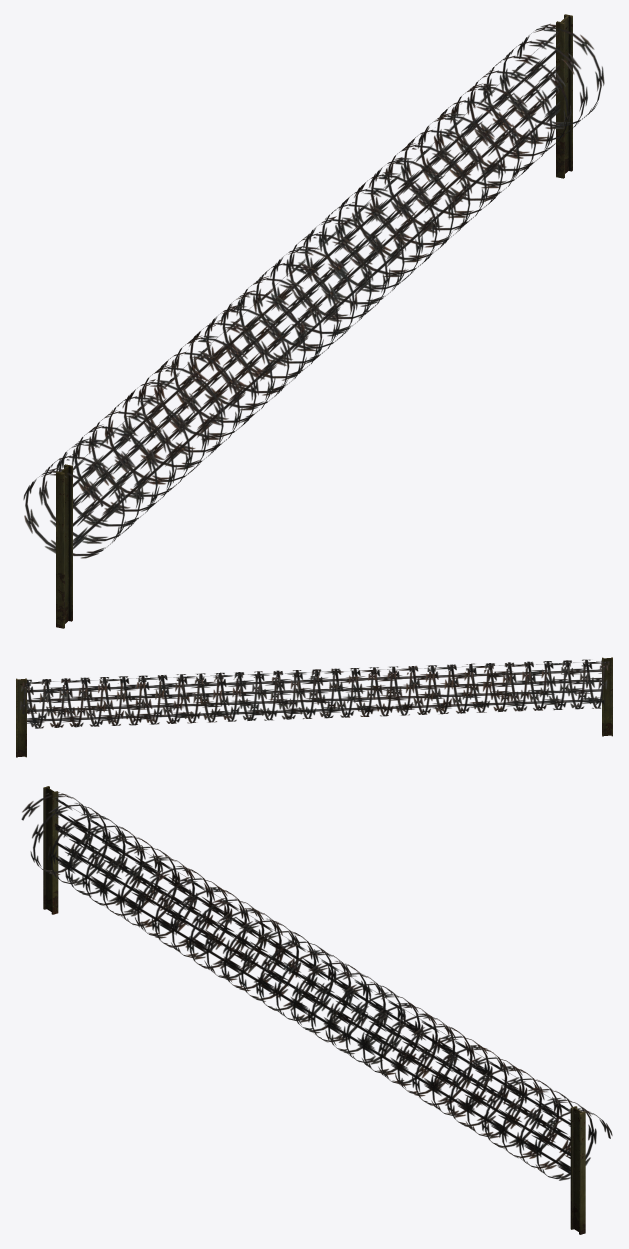
Rendered from object_94.002.002_lev2.glb.
3 renders of one model, top to bottom at view 1: azimuth 30°, elevation 25°; view 2: azimuth 150°, elevation 25°; view 3: azimuth 270°, elevation 25°, orthographic. The views are drawn at different scales.
Visible parts, largest first — view 1: object_94.002.002_lev2; view 2: object_94.002.002_lev2; view 3: object_94.002.002_lev2.
Part boxes in pixels (bbox=[...]): object_94.002.002_lev2: bbox=[23, 14, 604, 628]; object_94.002.002_lev2: bbox=[16, 657, 612, 757]; object_94.002.002_lev2: bbox=[21, 786, 612, 1234].
Size of the model in its own units: 11 by 1.81 by 8.11.
Materials: 1 (1 with a texture image).
